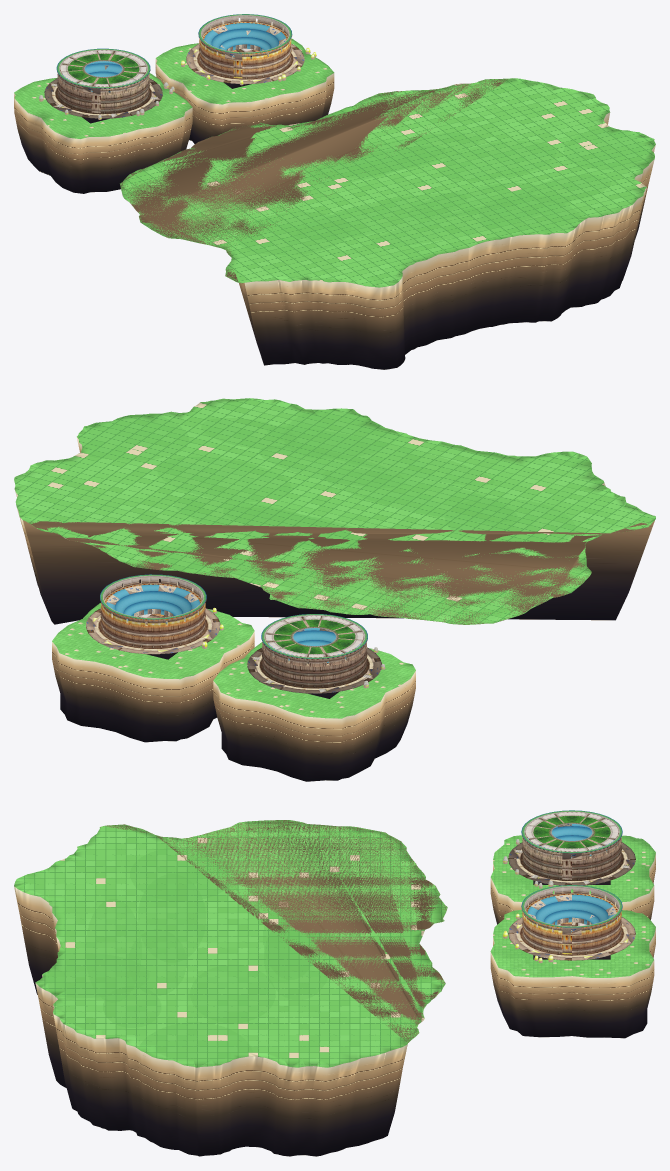
The model's file is digi_farm_3d.glb.
3 renders of one model, top to bottom at view 1: azimuth 30°, elevation 25°; view 2: azimuth 150°, elevation 25°; view 3: azimuth 270°, elevation 25°, orthographic. The views are drawn at different scales.
Visible parts, largest first — view 1: Island, IlandColosseum.002, IlandColosseum.001, FarmColosseum_C, FarmColosseum_O.001; view 2: Island, IlandColosseum.002, IlandColosseum.001, FarmColosseum_O.001, FarmColosseum_C; view 3: Island, IlandColosseum.001, FarmColosseum_O.001, FarmColosseum_C, IlandColosseum.002.
Part boxes in pixels (bbox=[...]): Island: bbox=[120, 78, 655, 369]; IlandColosseum.002: bbox=[14, 73, 192, 193]; IlandColosseum.001: bbox=[155, 38, 334, 143]; FarmColosseum_C: bbox=[39, 48, 174, 119]; FarmColosseum_O.001: bbox=[181, 14, 316, 85]; Island: bbox=[14, 398, 655, 624]; IlandColosseum.002: bbox=[213, 642, 415, 781]; IlandColosseum.001: bbox=[52, 603, 254, 742]; FarmColosseum_O.001: bbox=[86, 574, 223, 654]; FarmColosseum_C: bbox=[247, 614, 385, 693]; Island: bbox=[14, 820, 447, 1156]; IlandColosseum.001: bbox=[490, 909, 655, 1038]; FarmColosseum_O.001: bbox=[502, 885, 635, 963]; FarmColosseum_C: bbox=[502, 810, 635, 888]; IlandColosseum.002: bbox=[490, 835, 655, 924].
Bounding box in the file's own units: 1.93 × 0.5038 × 2.11.
Materials: 5 (5 with a texture image).
